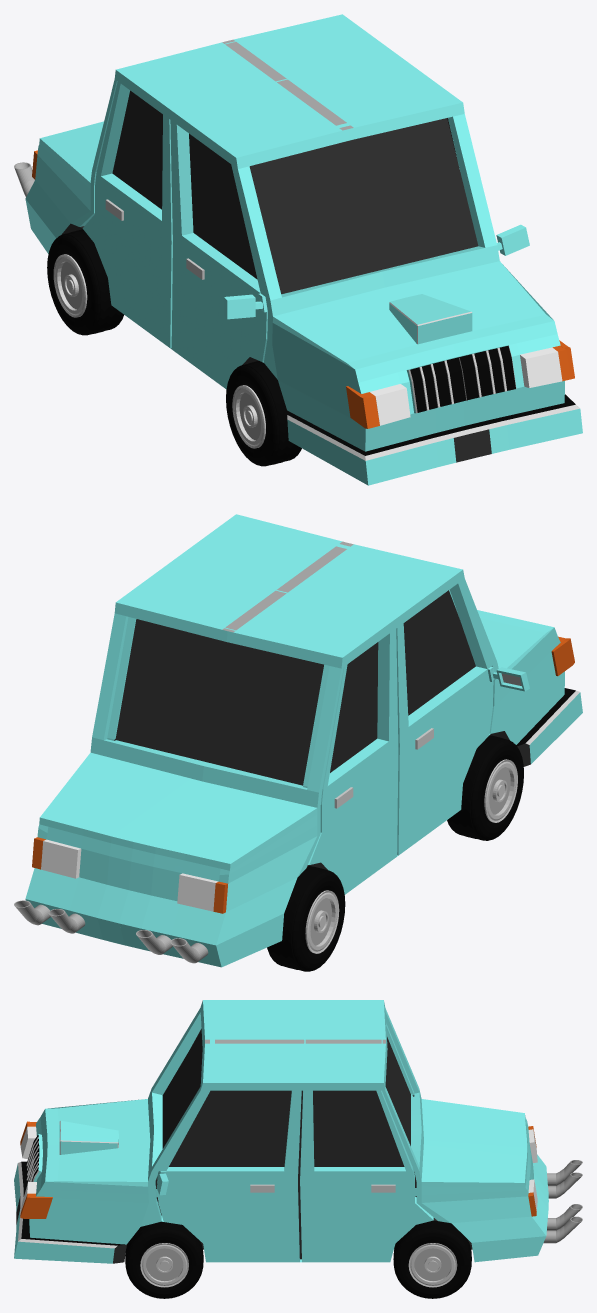
3 views of the same model, one above another, from view 1: azimuth 30°, elevation 25°; view 2: azimuth 150°, elevation 25°; view 3: azimuth 270°, elevation 25° (orthographic). The views are drawn at different scales.
Parts seen in each view (by area): view 1: BODY, WHEEL.004, WHEEL.001; view 2: BODY, WHEEL.004, WHEEL.001; view 3: BODY, WHEEL.002, WHEEL.003.
Part boxes in pixels (x1,y1,x2,y2): BODY: [14, 14, 582, 485]; WHEEL.004: [47, 229, 123, 335]; WHEEL.001: [226, 361, 301, 466]; BODY: [14, 514, 582, 967]; WHEEL.004: [267, 866, 345, 971]; WHEEL.001: [447, 735, 523, 840]; BODY: [14, 1000, 582, 1263]; WHEEL.002: [393, 1220, 471, 1298]; WHEEL.003: [125, 1221, 203, 1298].
Bounding box in the file's own units: 131 × 117 × 284.
